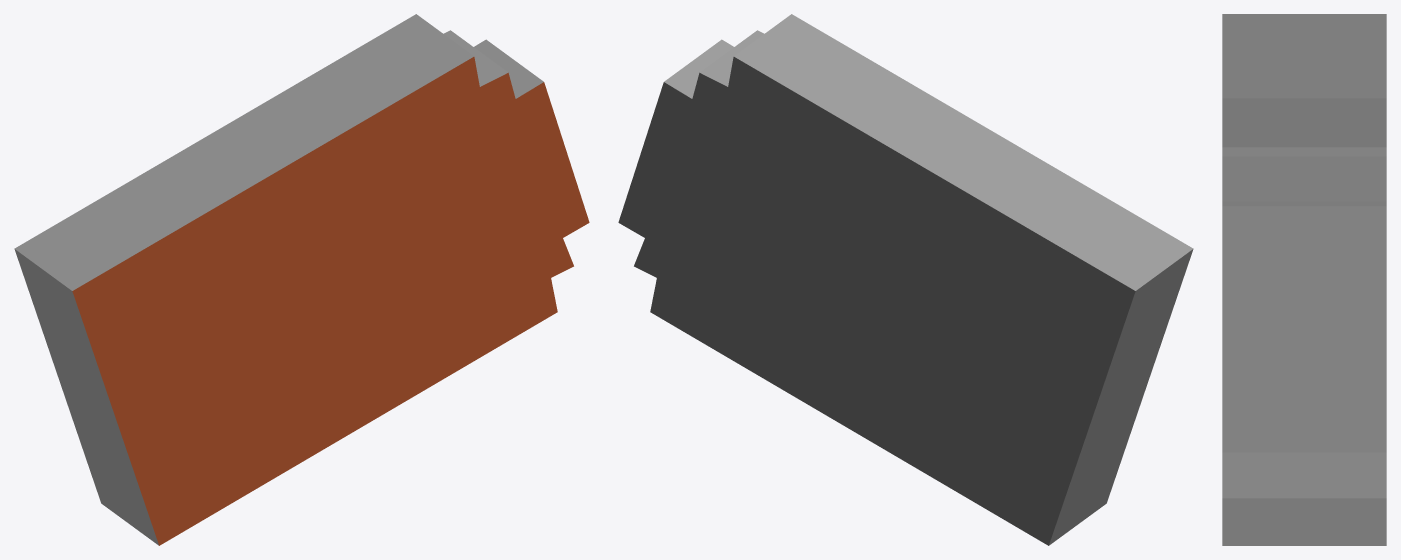
Rendered from construction_3355_assumed_A_Casa_h6m.obj.
3 renders of one model, left to right at view 1: azimuth 30°, elevation 25°; view 2: azimuth 150°, elevation 25°; view 3: azimuth 270°, elevation 25°, orthographic. The views are drawn at different scales.
Parts seen in each view (by area): view 1: construction_3355_assumed_A_Casa; view 2: construction_3355_assumed_A_Casa; view 3: construction_3355_assumed_A_Casa.
Boxes of the visible parts, x1,y1,x2,y2 form: construction_3355_assumed_A_Casa: (14,14,589,545); construction_3355_assumed_A_Casa: (618,14,1193,545); construction_3355_assumed_A_Casa: (1222,14,1386,545).
Bounding box in the file's own units: 30.89 × 23.55 × 6.
